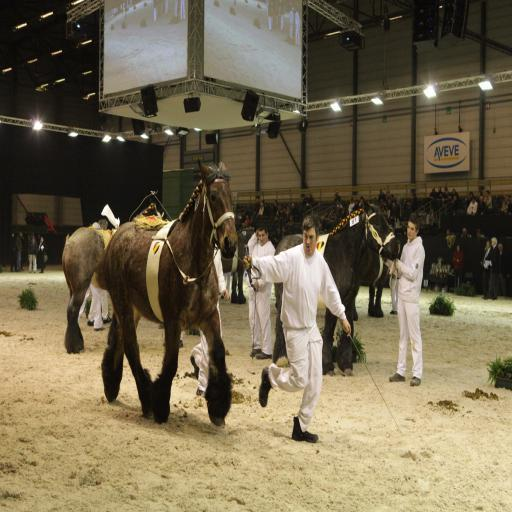Horse: (102, 154, 238, 428), (273, 190, 401, 374), (61, 224, 116, 352)
